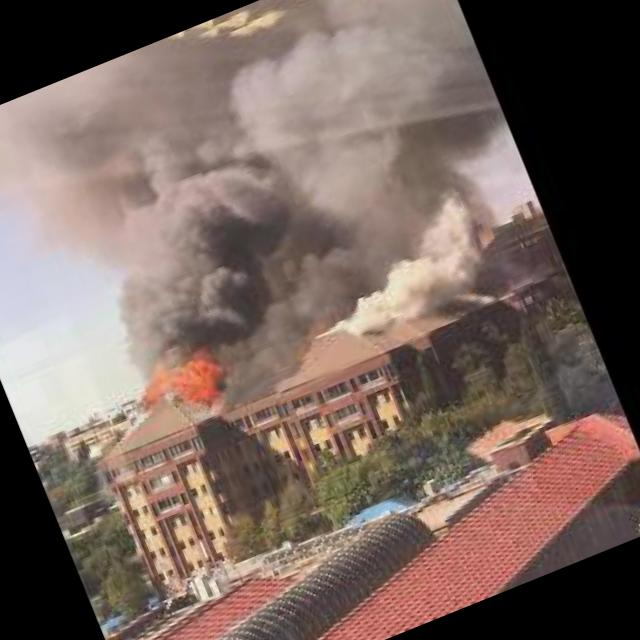fire: (117, 336, 240, 441)
smoke: (0, 0, 511, 435)
